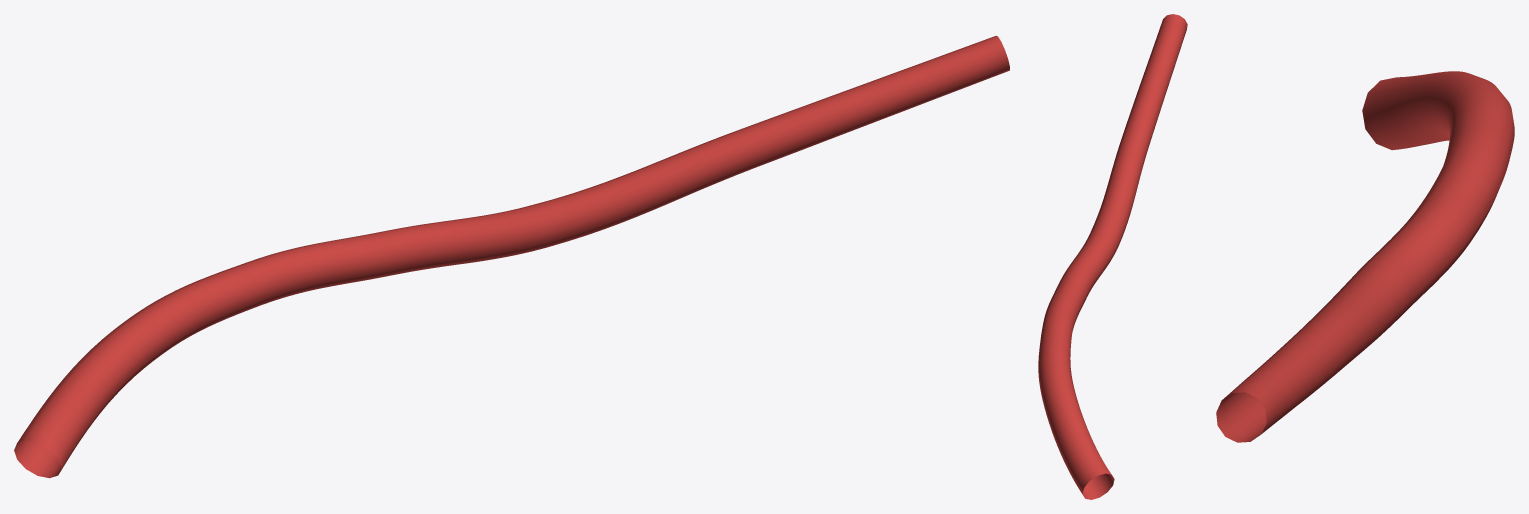
3 renders of one model, left to right at view 1: azimuth 90°, elevation 25°; view 2: azimuth 150°, elevation 25°; view 3: azimuth 330°, elevation 25°, orthographic. The views are drawn at different scales.
Parts seen in each view (by area): view 1: 左结肠动脉升支; view 2: 左结肠动脉升支; view 3: 左结肠动脉升支.
Part boxes in pixels (<box>): 左结肠动脉升支: <box>14,36,1009,478</box>; 左结肠动脉升支: <box>1038,14,1187,499</box>; 左结肠动脉升支: <box>1216,71,1514,442</box>.
Size of the model in its own units: 0.0361 by 0.0226 by 0.0777.
